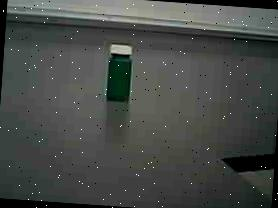Bottle C: (100, 37, 142, 112)
